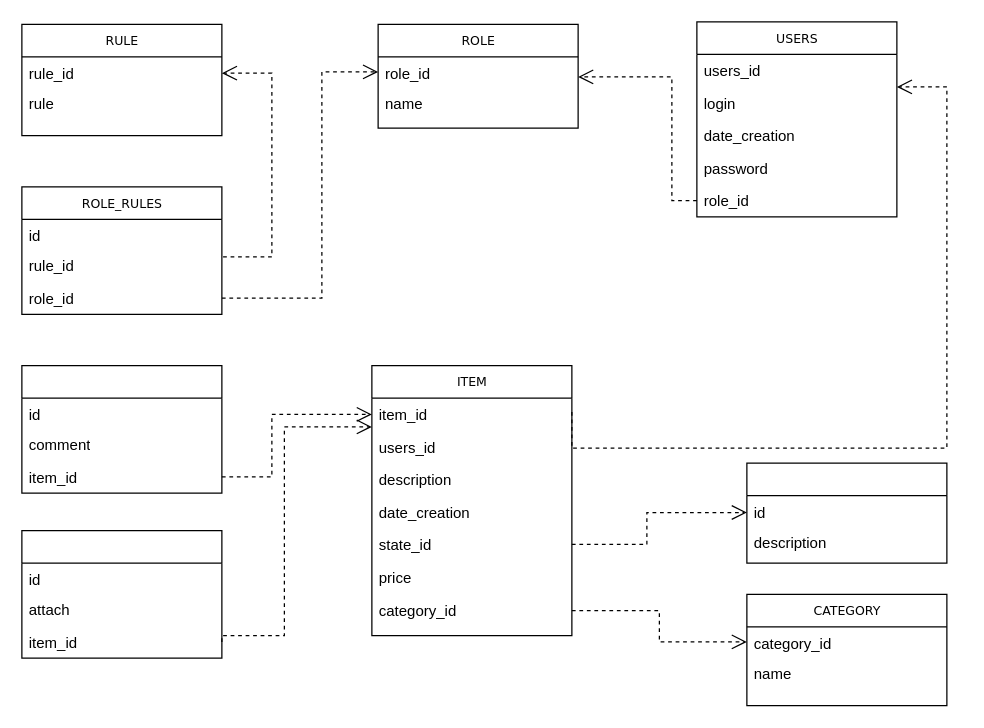
Image size: 984x728. Some labels were removed from this diagram. Here are the shapes that lost their labels. From the top down, the box of each, then its label:
(21, 364, 222, 493): COMMENTS
(746, 462, 947, 563): STATE
(21, 529, 222, 658): ATTACHS
